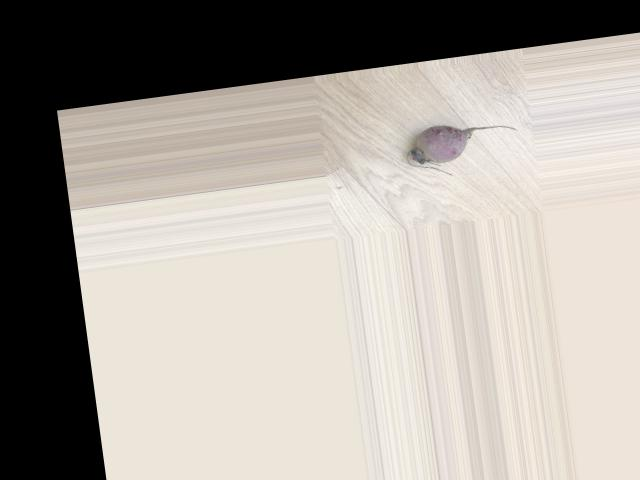beet: (403, 114, 522, 180)
